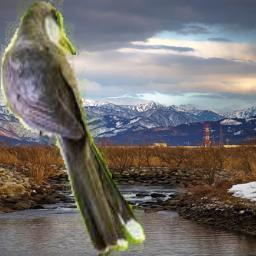Cuckoo: (1, 0, 146, 256)
